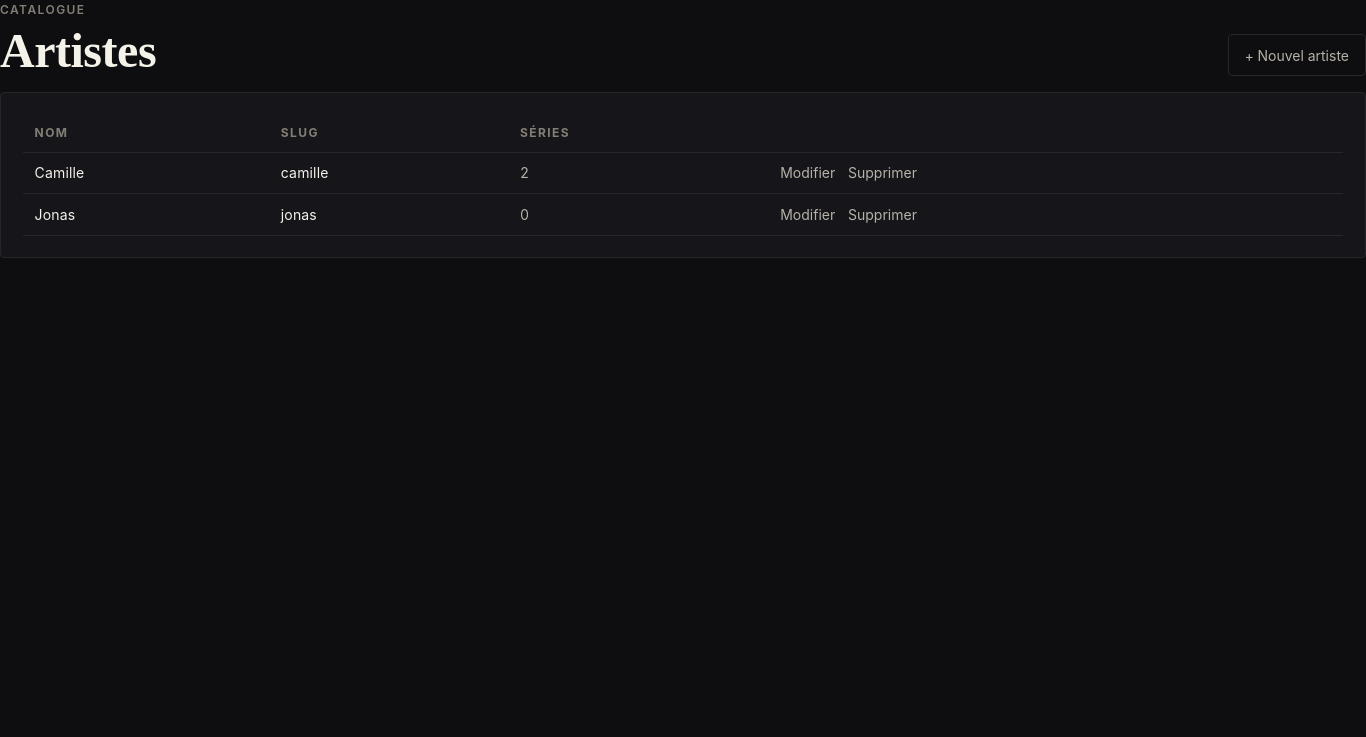
Test: AdminEntityManager › spells out a field-level refusal, path included
Click the button with class "btn-add" at (1297, 55), box [1228,34,1365,76]
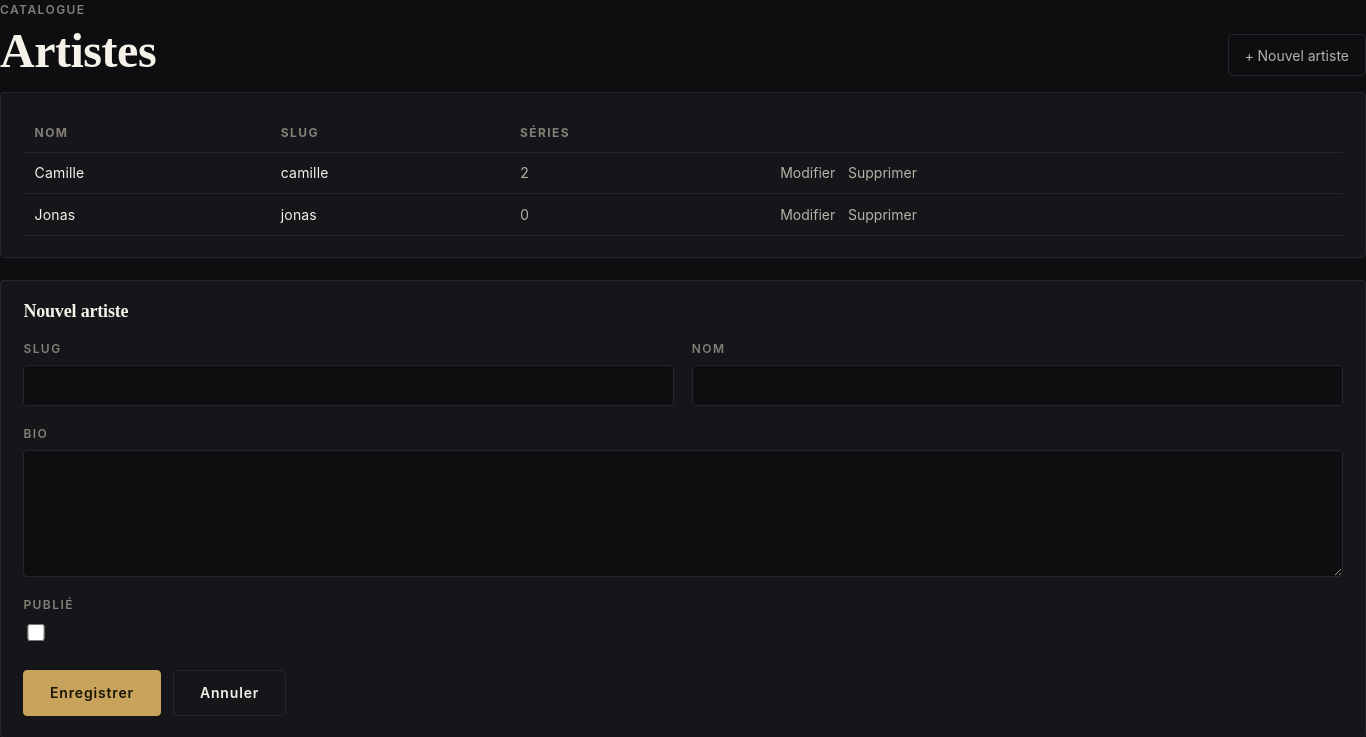
Click the button "Enregistrer" at (92, 693), box [23,670,160,716]
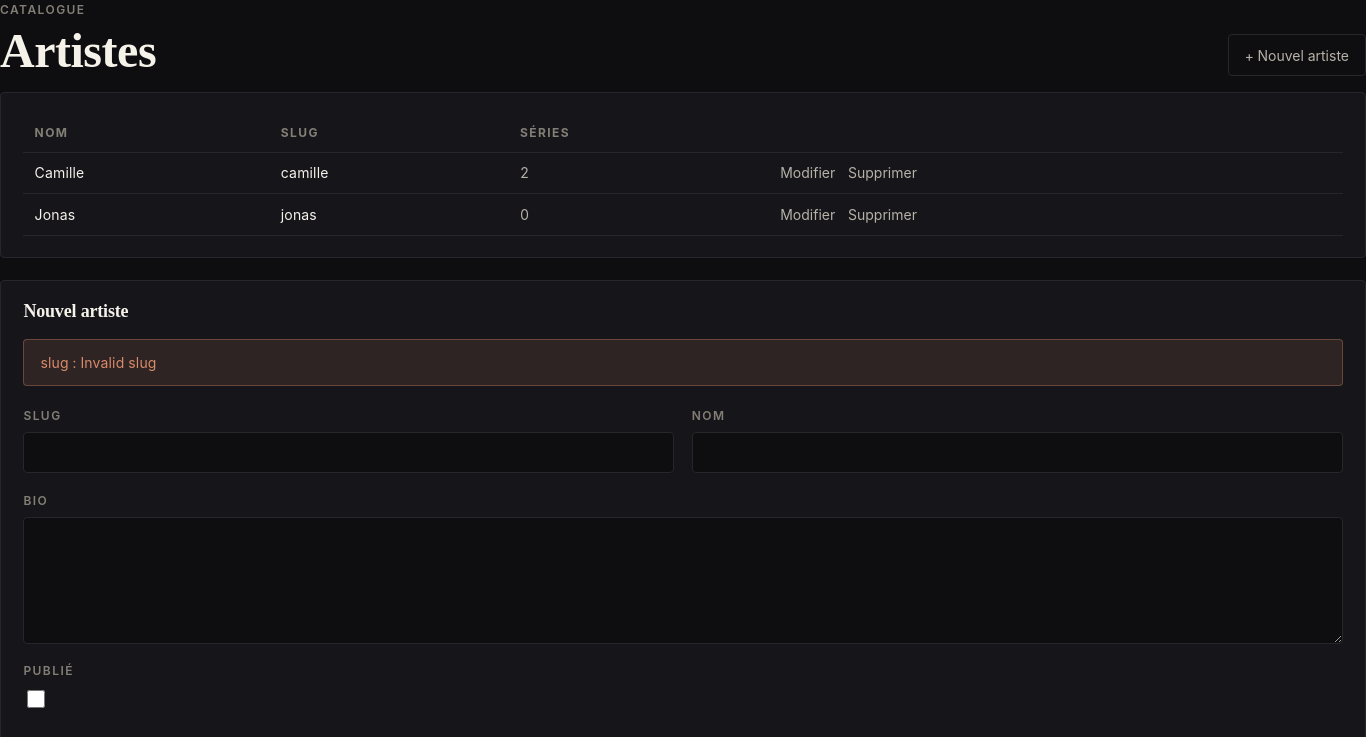
Expected: the message with class "alert" reads "slug : Invalid slug", [40,354,157,371]
